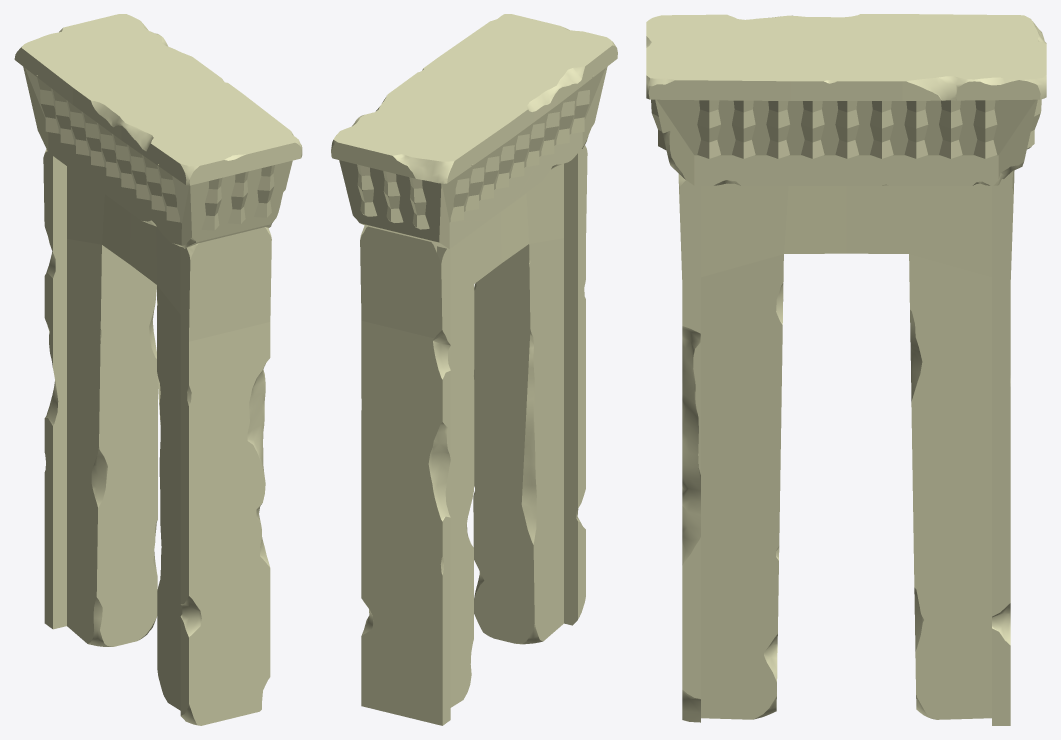
Rendered from ArcoSolo.fbx.
3 renders of one model, left to right at view 1: azimuth 30°, elevation 25°; view 2: azimuth 150°, elevation 25°; view 3: azimuth 270°, elevation 25°, orthographic. The views are drawn at different scales.
Parts seen in each view (by area): view 1: Plane.031_dmg.005; view 2: Plane.031_dmg.005; view 3: Plane.031_dmg.005.
Boxes of the visible parts, x1,y1,x2,y2 form: Plane.031_dmg.005: (14, 14, 302, 725); Plane.031_dmg.005: (331, 14, 617, 725); Plane.031_dmg.005: (646, 14, 1046, 725).
Bounding box in the file's own units: 92.27 × 419 × 232.
